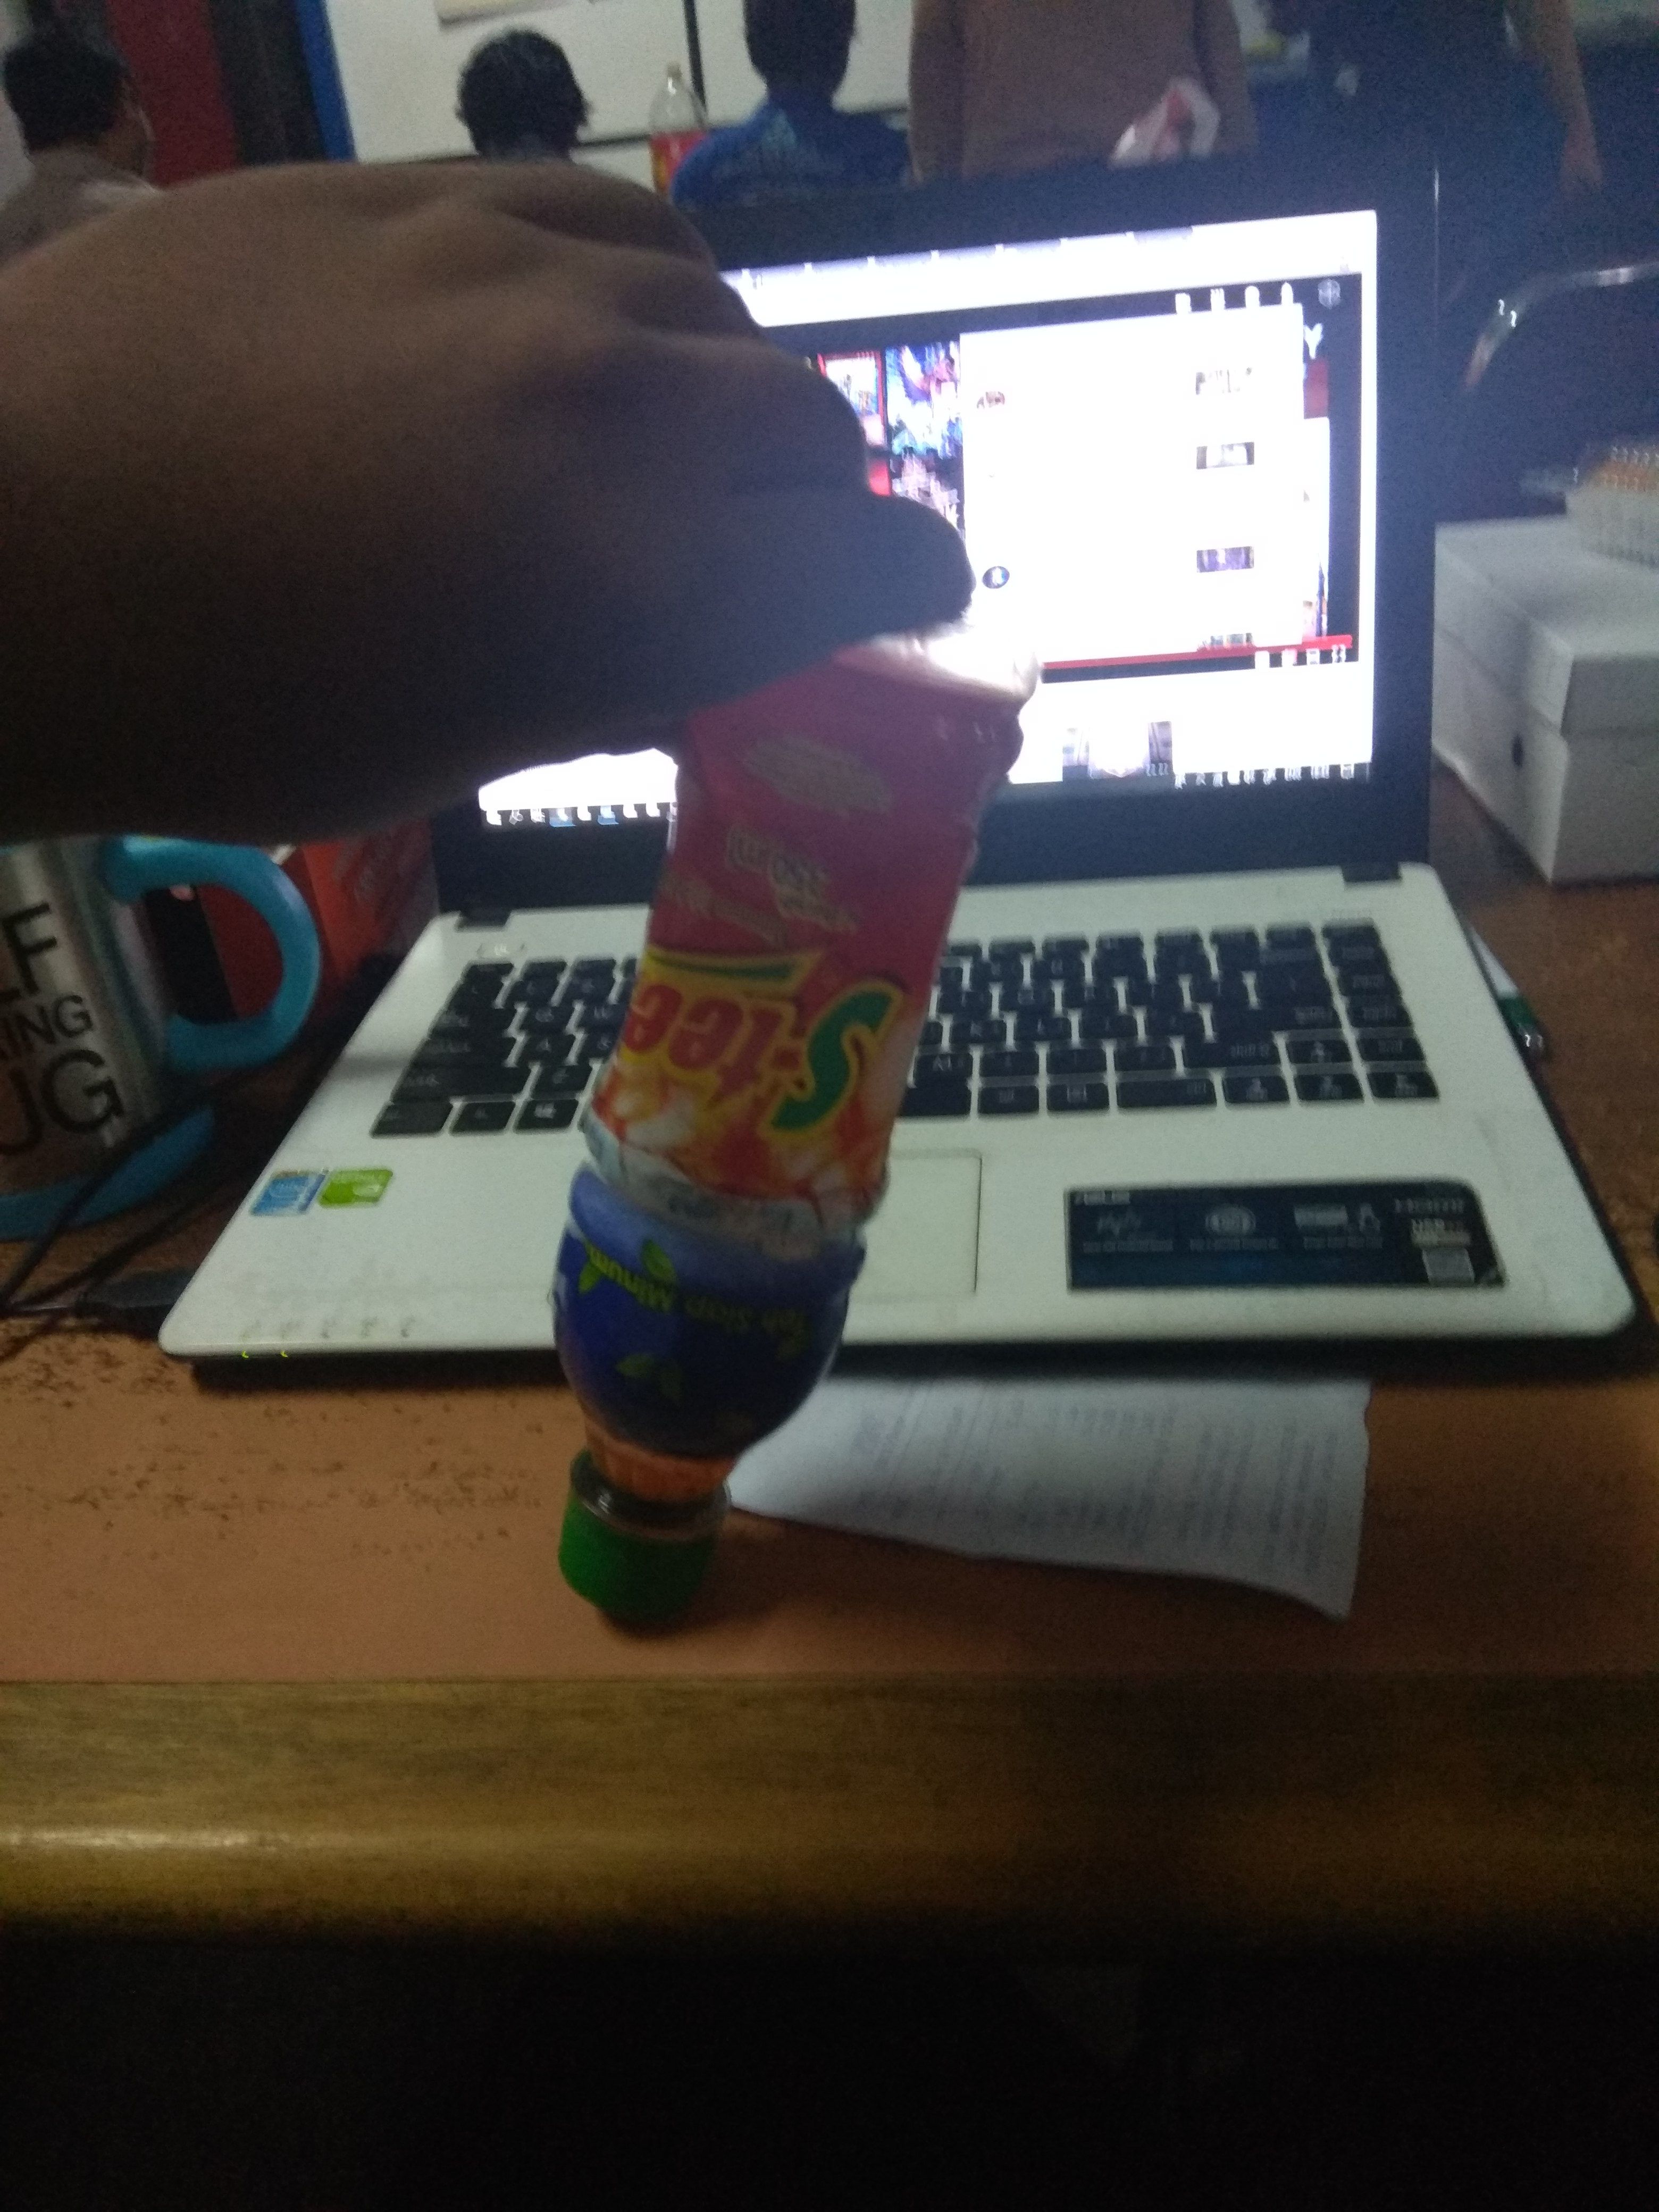botol: (551, 596, 1021, 1639), (551, 596, 1021, 1616), (568, 596, 1021, 1639), (551, 646, 1021, 1616)
